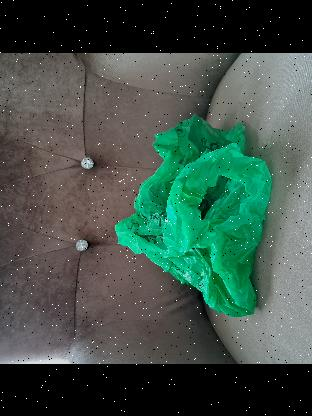Others: (114, 111, 272, 316)
